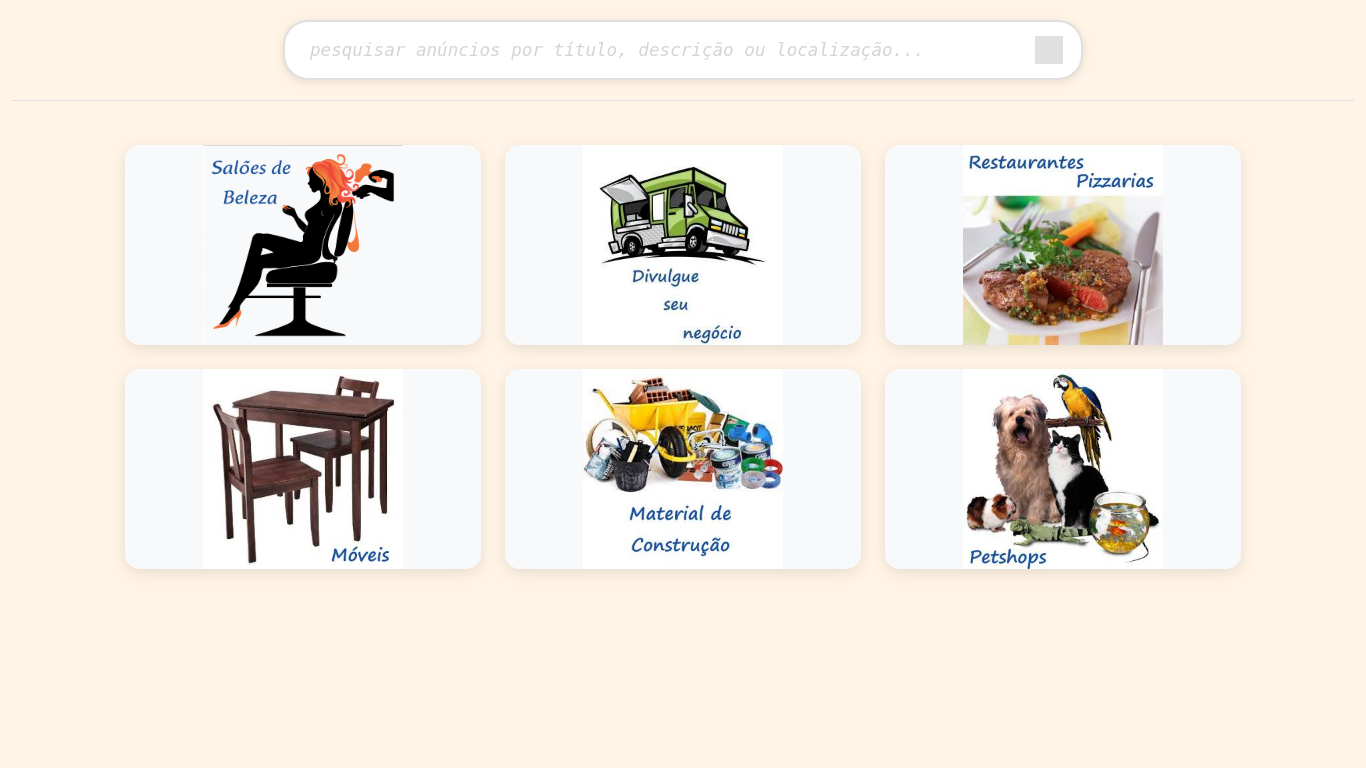
Test: Home › Search Functionality › shows search results when ads are available
The width and height of the screenshot is (1366, 768).
Type "test" into the field with placeholder "pesquisar anúncios por título, descrição ou localização..." at x=683, y=50, box 283,20 -> 1083,80
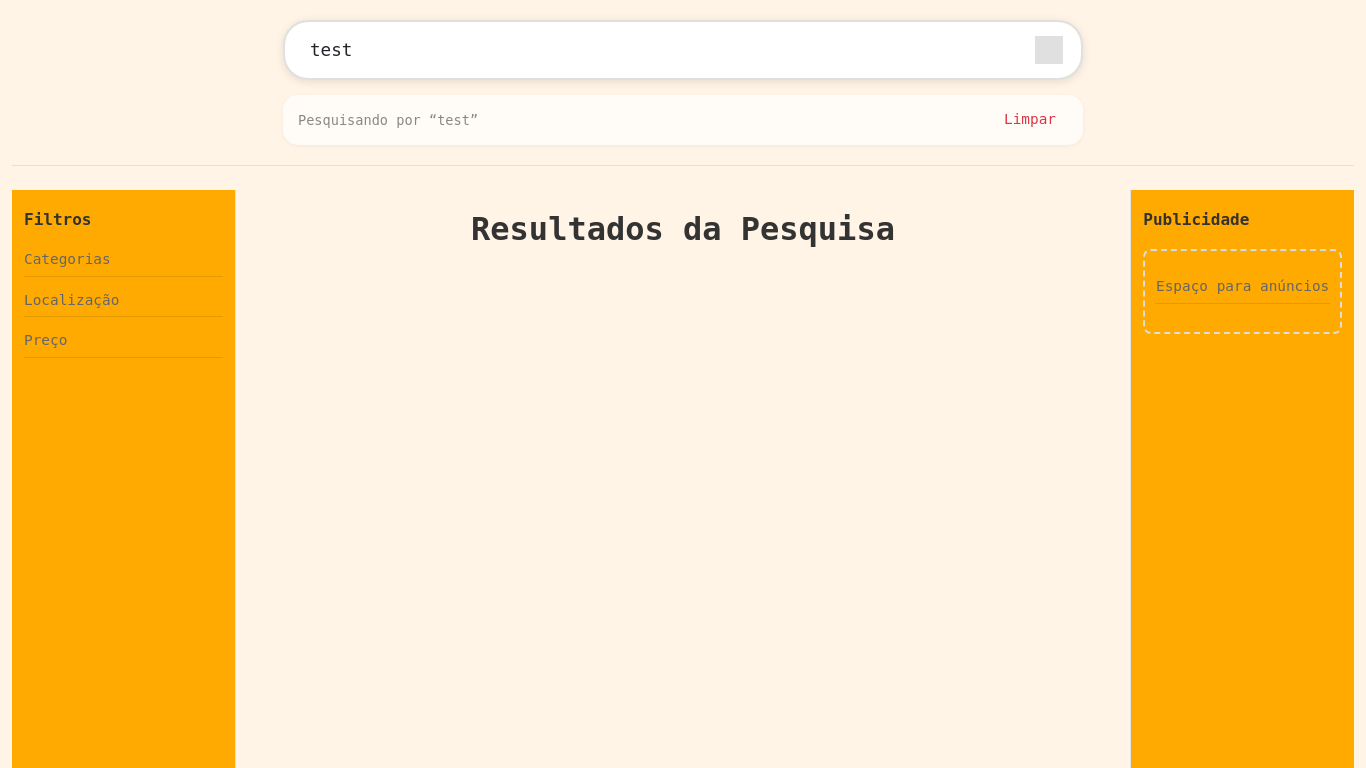
Check: the heading "Resultados da Pesquisa" is shown, box 471,210 -> 895,248
